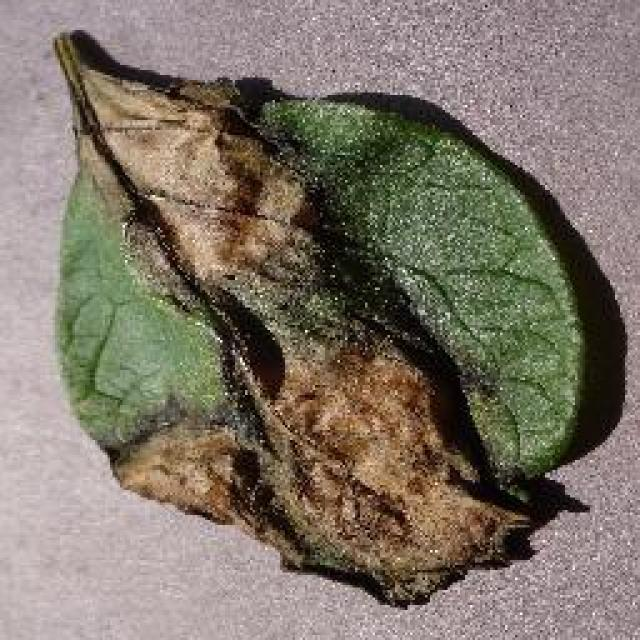Potato___Late_blight: (46, 26, 587, 610)
